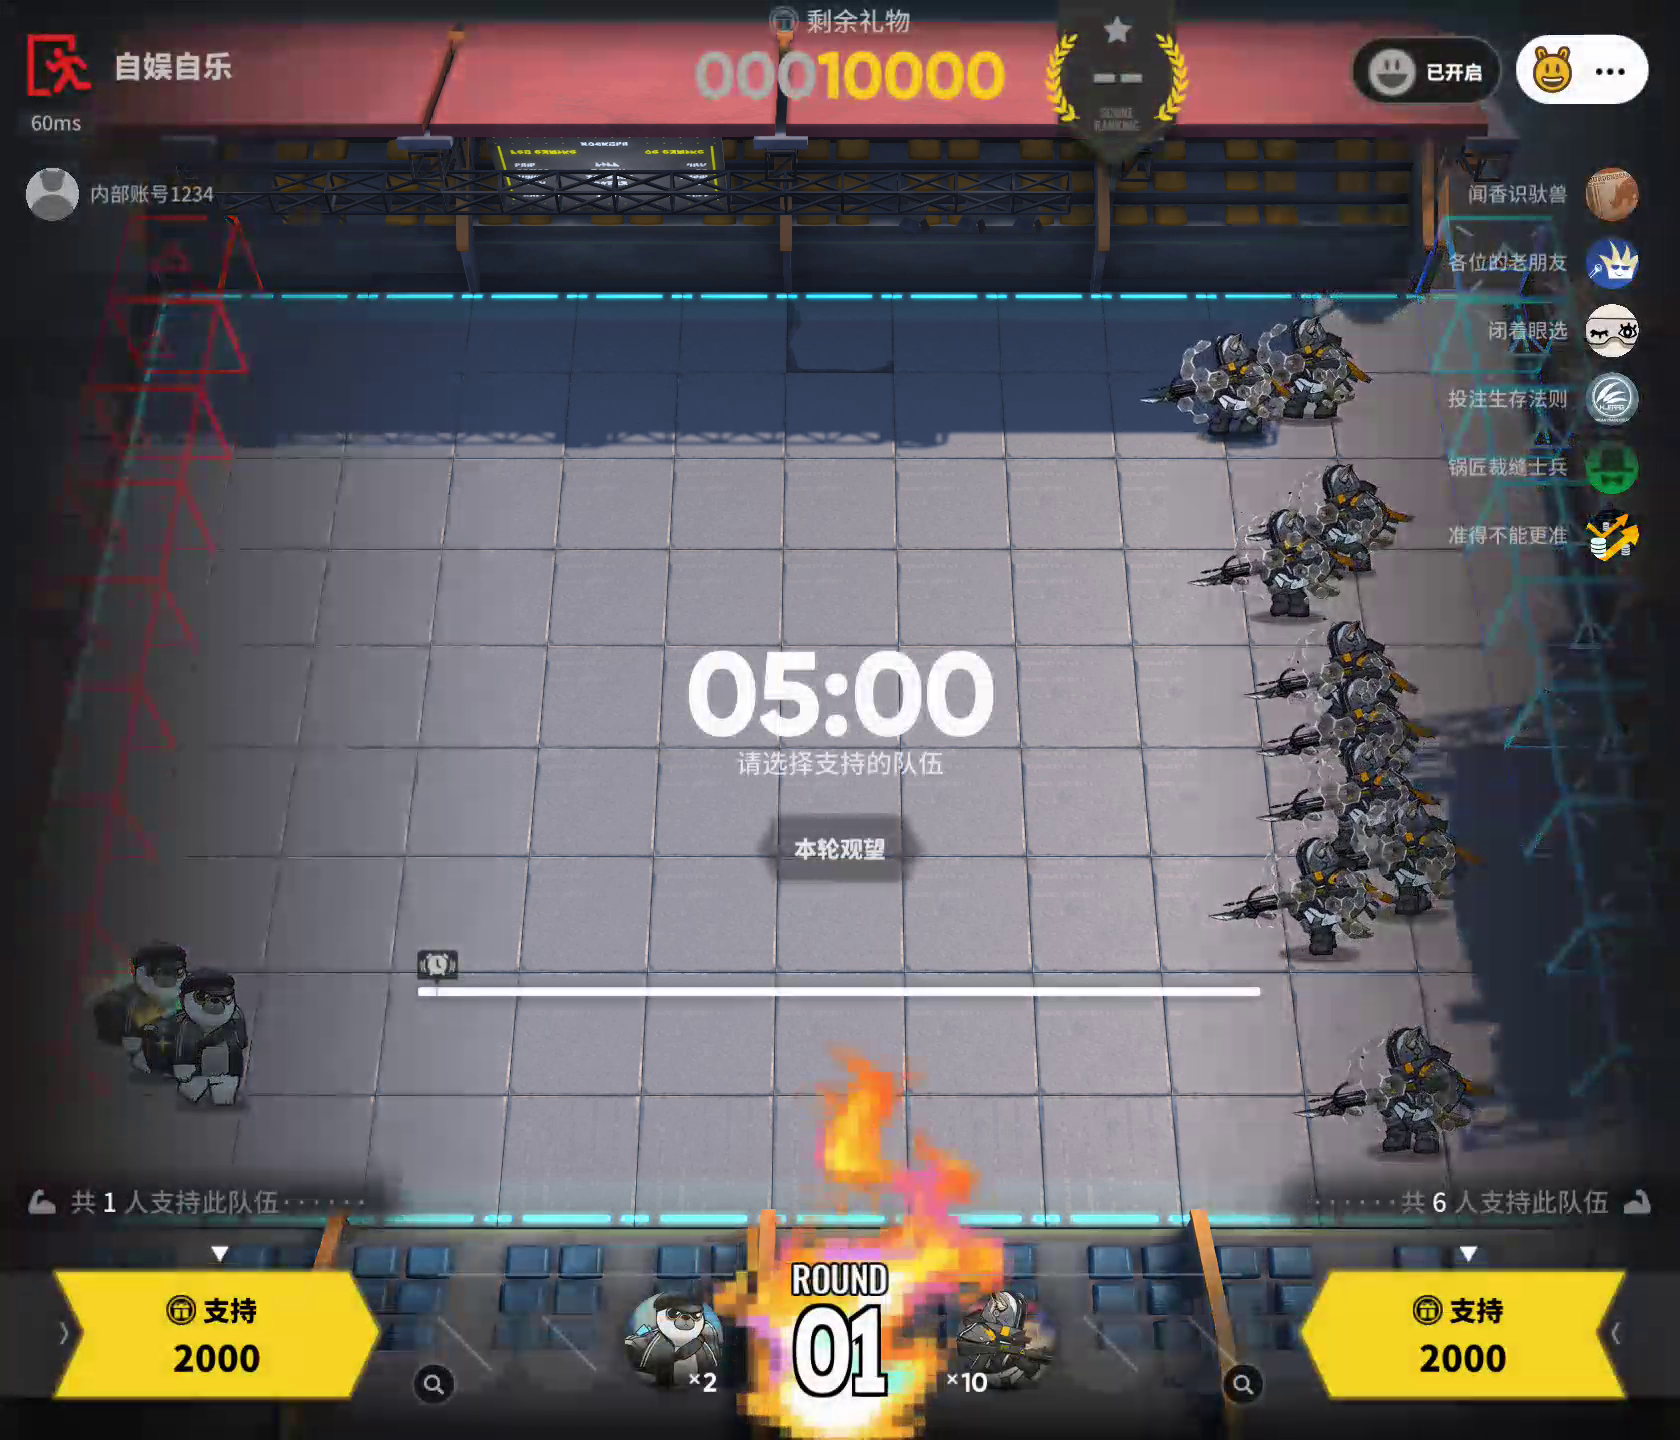保鲜膜骑士: (1286, 1011, 1494, 1170), (1213, 829, 1377, 961), (1256, 661, 1441, 777), (1247, 457, 1424, 576), (1259, 733, 1443, 843), (1190, 509, 1359, 627), (1139, 331, 1301, 444), (1239, 619, 1424, 717), (1333, 801, 1479, 916), (1247, 303, 1373, 421), (944, 1284, 1061, 1401)
高普尼克: (79, 929, 211, 1091), (144, 961, 266, 1131), (620, 1284, 730, 1396)
